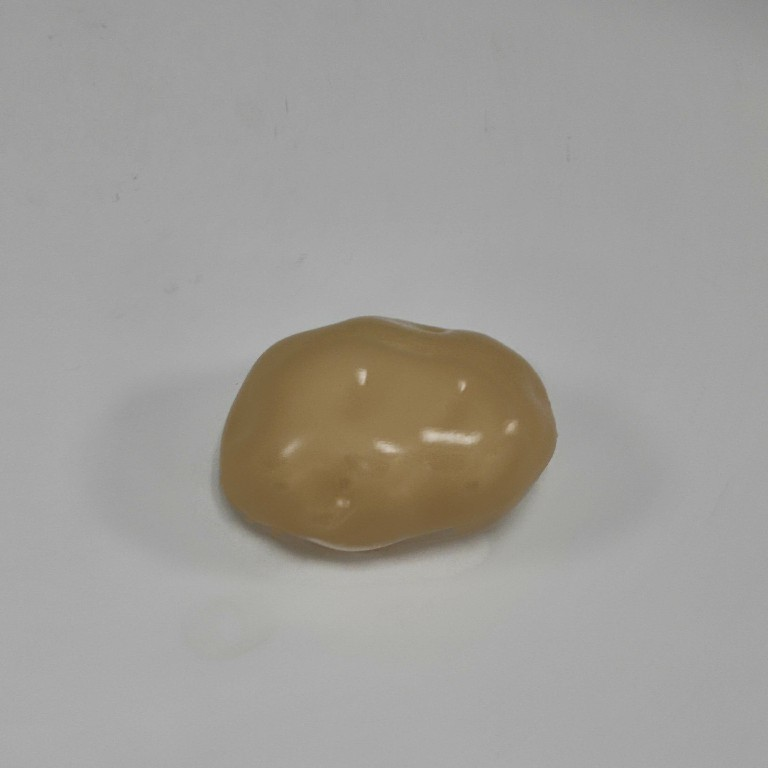fruit_potato: (211, 312, 560, 556)
